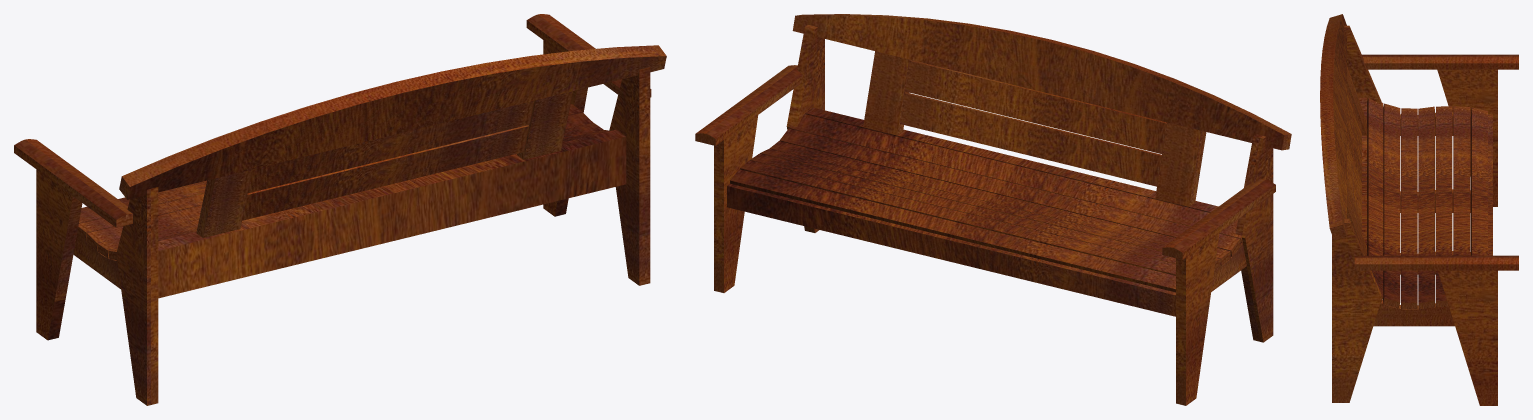
3 views of the same model, side by side, from view 1: azimuth 30°, elevation 25°; view 2: azimuth 150°, elevation 25°; view 3: azimuth 270°, elevation 25° (orthographic). The views are drawn at different scales.
Visible parts, largest first — view 1: mesh31_mesh31-geometry, mesh1_mesh1-geometry, mesh9_mesh9-geometry, mesh23_mesh23-geometry, mesh7_mesh7-geometry, mesh20_mesh20-geometry, mesh24_mesh24-geometry, mesh29_mesh29-geometry, mesh5_mesh5-geometry, mesh3_mesh3-geometry, mesh27_mesh27-geometry, mesh11_mesh11-geometry (+1 smaller); view 2: mesh31_mesh31-geometry, mesh1_mesh1-geometry, mesh9_mesh9-geometry, mesh7_mesh7-geometry, mesh23_mesh23-geometry, mesh24_mesh24-geometry, mesh19_mesh19-geometry, mesh5_mesh5-geometry, mesh3_mesh3-geometry, mesh29_mesh29-geometry, mesh27_mesh27-geometry, mesh20_mesh20-geometry (+1 smaller); view 3: mesh31_mesh31-geometry, mesh20_mesh20-geometry, mesh19_mesh19-geometry, mesh1_mesh1-geometry, mesh24_mesh24-geometry, mesh27_mesh27-geometry, mesh29_mesh29-geometry, mesh13_mesh13-geometry, mesh23_mesh23-geometry, mesh9_mesh9-geometry, mesh7_mesh7-geometry, mesh5_mesh5-geometry (+1 smaller).
Boxes of the visible parts, <box> form: mesh31_mesh31-geometry: <box>77,103,626,298</box>; mesh1_mesh1-geometry: <box>119,45,666,199</box>; mesh9_mesh9-geometry: <box>242,125,529,220</box>; mesh23_mesh23-geometry: <box>116,187,158,405</box>; mesh7_mesh7-geometry: <box>248,100,534,193</box>; mesh20_mesh20-geometry: <box>609,67,650,285</box>; mesh24_mesh24-geometry: <box>36,169,82,340</box>; mesh29_mesh29-geometry: <box>14,139,132,227</box>; mesh5_mesh5-geometry: <box>196,169,252,237</box>; mesh3_mesh3-geometry: <box>517,91,573,159</box>; mesh27_mesh27-geometry: <box>526,14,651,97</box>; mesh11_mesh11-geometry: <box>73,233,120,288</box>; mesh31_mesh31-geometry: <box>727,107,1242,316</box>; mesh1_mesh1-geometry: <box>792,14,1291,150</box>; mesh9_mesh9-geometry: <box>900,93,1161,186</box>; mesh7_mesh7-geometry: <box>905,60,1167,153</box>; mesh23_mesh23-geometry: <box>1235,134,1273,342</box>; mesh24_mesh24-geometry: <box>1176,233,1219,405</box>; mesh19_mesh19-geometry: <box>714,115,758,292</box>; mesh5_mesh5-geometry: <box>1155,122,1206,206</box>; mesh3_mesh3-geometry: <box>863,51,911,135</box>; mesh29_mesh29-geometry: <box>1162,179,1275,259</box>; mesh27_mesh27-geometry: <box>695,65,802,145</box>; mesh20_mesh20-geometry: <box>786,25,824,232</box>; mesh31_mesh31-geometry: <box>1358,97,1492,309</box>; mesh20_mesh20-geometry: <box>1332,218,1381,402</box>; mesh19_mesh19-geometry: <box>1438,270,1497,405</box>; mesh1_mesh1-geometry: <box>1320,14,1346,240</box>; mesh24_mesh24-geometry: <box>1437,69,1497,206</box>; mesh27_mesh27-geometry: <box>1354,255,1518,270</box>; mesh29_mesh29-geometry: <box>1362,54,1518,69</box>; mesh13_mesh13-geometry: <box>1373,300,1454,326</box>; mesh23_mesh23-geometry: <box>1344,25,1381,104</box>; mesh9_mesh9-geometry: <box>1353,103,1361,232</box>; mesh7_mesh7-geometry: <box>1347,86,1352,207</box>; mesh5_mesh5-geometry: <box>1347,66,1366,135</box>.
Bounding box in the file's own units: 0.8519 × 0.3983 × 0.3399.
